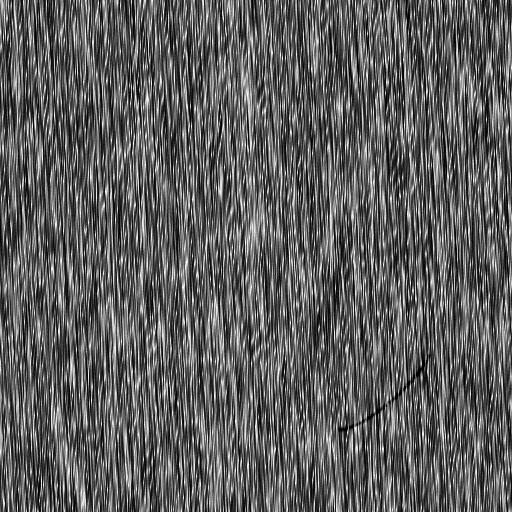DefectTypeC: (340, 353, 432, 435)
